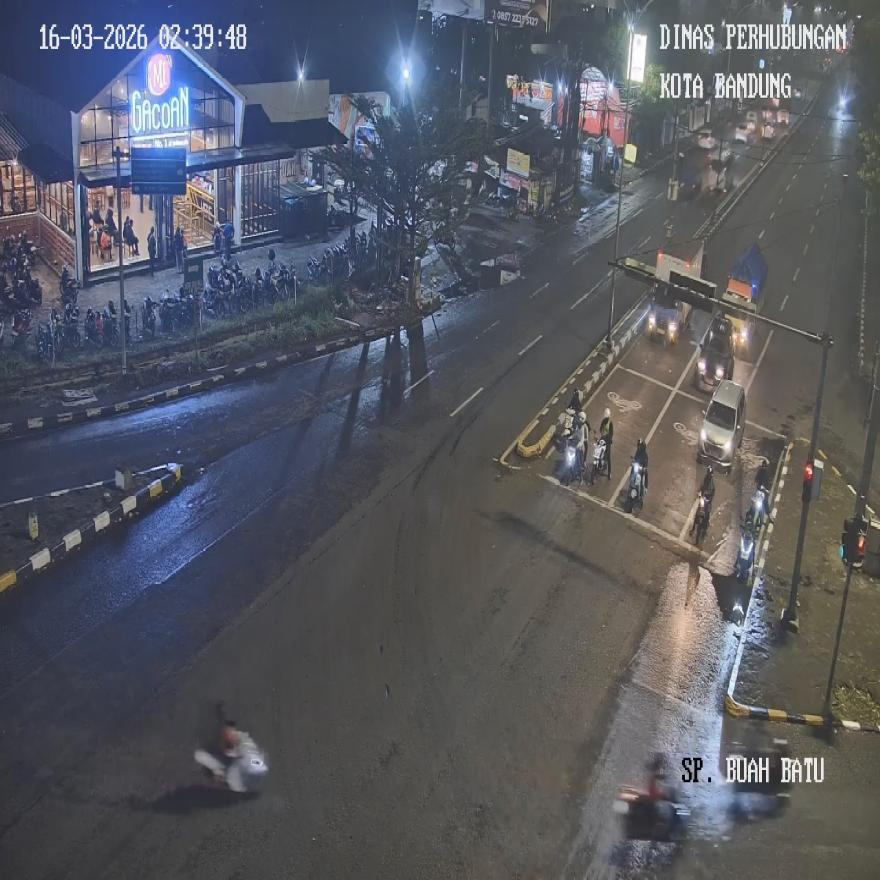Mobil: (696, 378, 746, 470)
Motor: (193, 730, 269, 793), (613, 786, 689, 841), (556, 409, 589, 484), (734, 524, 756, 586), (626, 456, 646, 511), (589, 436, 610, 484), (693, 491, 711, 544)
